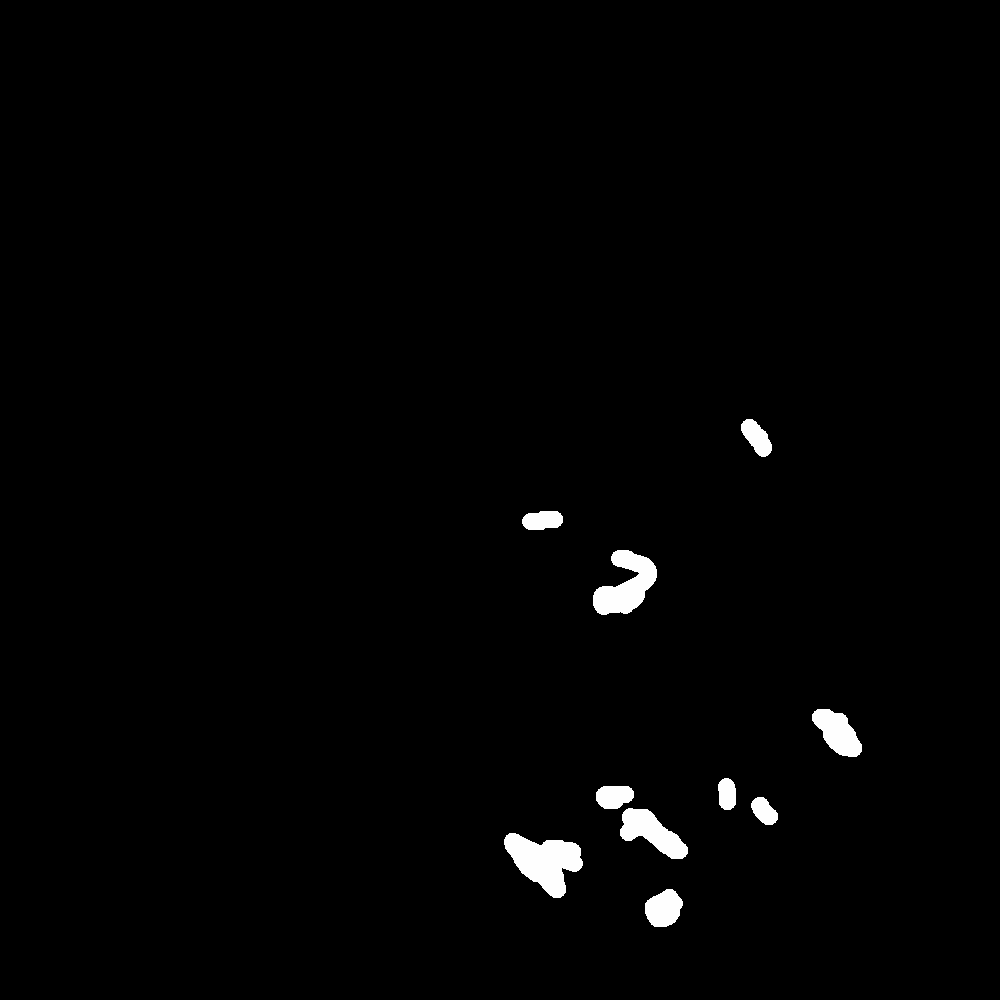illegal: (562, 543, 648, 616), (819, 712, 865, 760), (519, 514, 565, 531)
